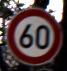Speed Limit -60-: (5, 7, 61, 65)
